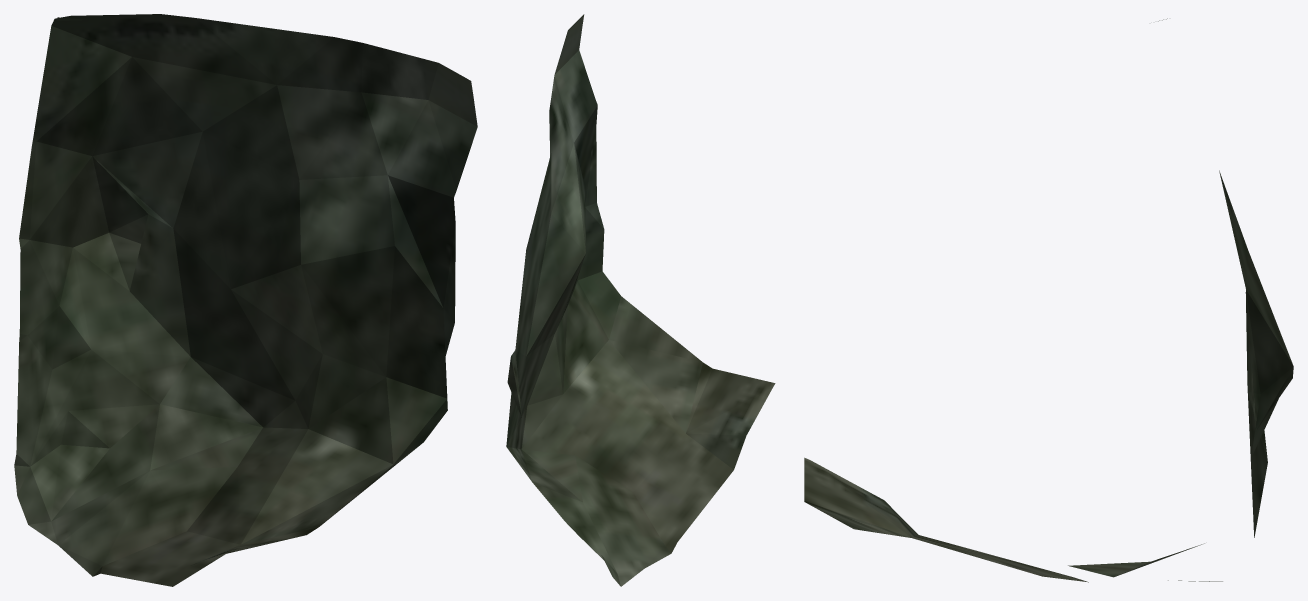
The picture shows the model from 3 angles, left to right: view 1: azimuth 30°, elevation 25°; view 2: azimuth 150°, elevation 25°; view 3: azimuth 270°, elevation 25°; orthographic projection. The views are drawn at different scales.
Size of the model in its own units: 1.17 by 2.37 by 1.83.
1 material, 1 textured.
